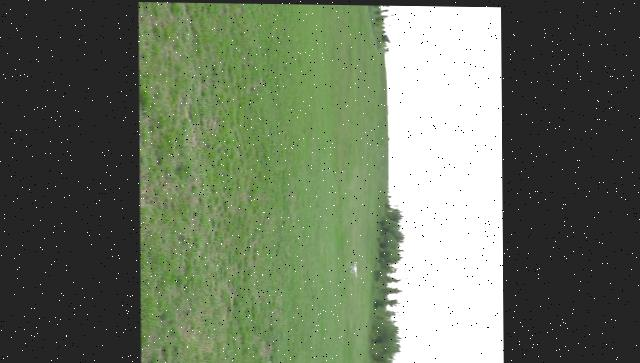drone: (350, 260, 358, 276)
